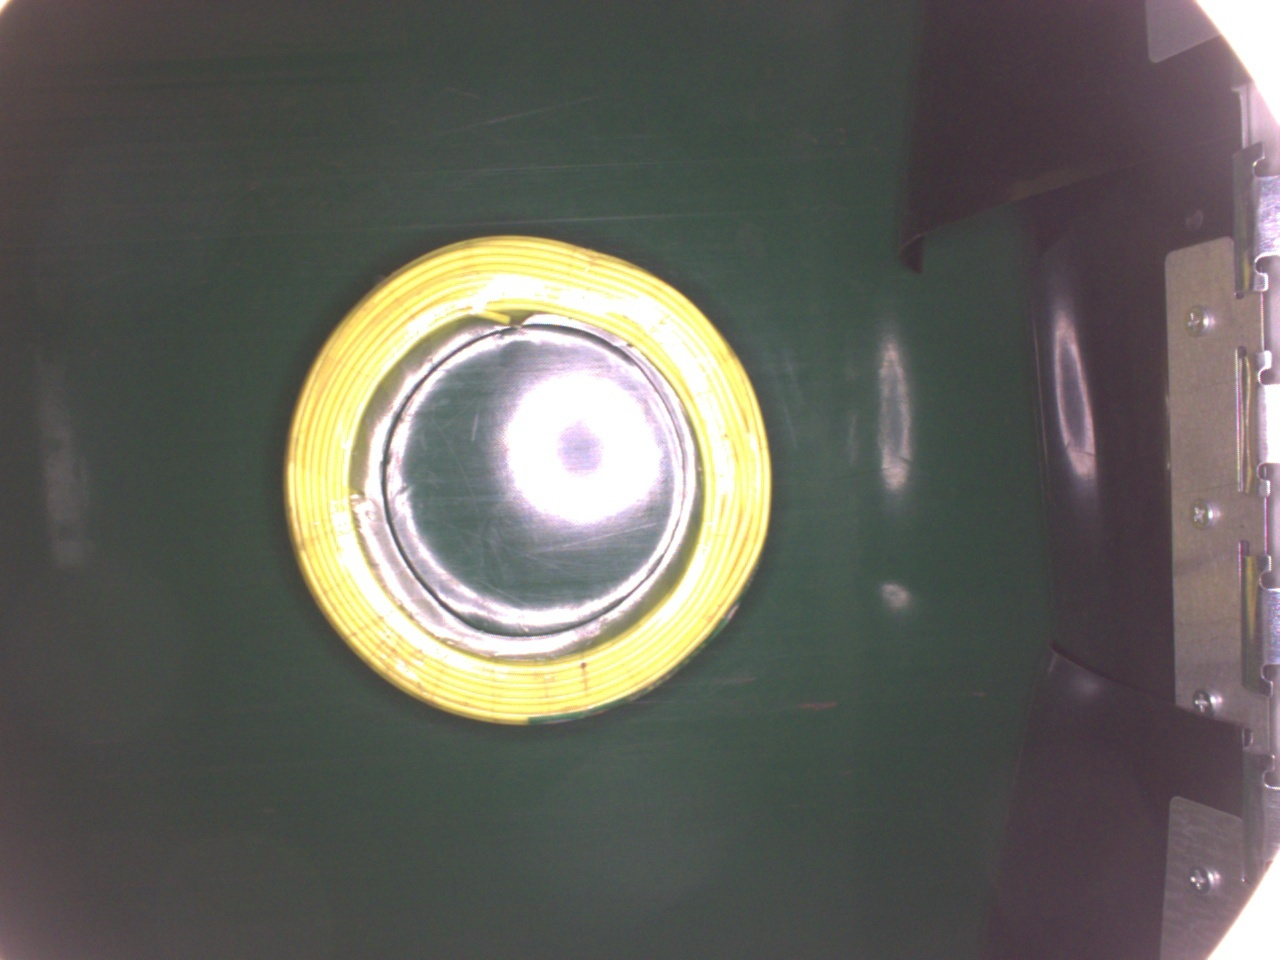yellow: (280, 233, 773, 727)
